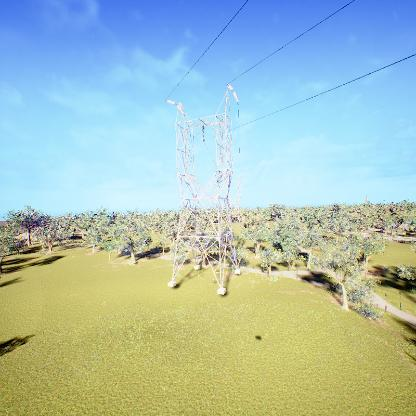tower: (160, 80, 248, 301)
